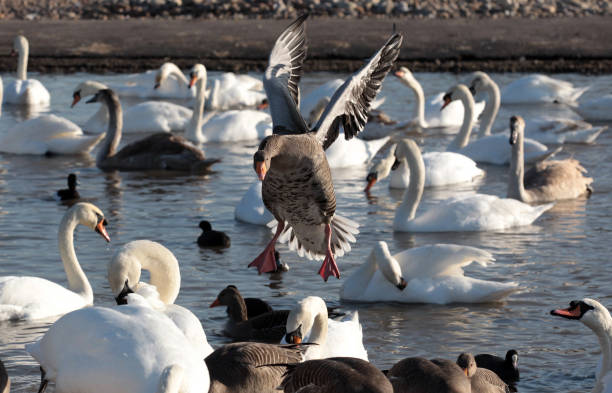goose: (33, 231, 194, 393), (241, 102, 344, 290), (385, 136, 556, 236), (1, 197, 113, 318), (85, 89, 218, 183), (338, 241, 523, 303), (505, 113, 597, 209), (441, 82, 541, 170), (184, 62, 269, 149), (367, 131, 486, 186), (281, 296, 371, 368), (144, 51, 263, 105), (547, 295, 612, 393), (67, 77, 189, 129), (1, 32, 54, 108)
